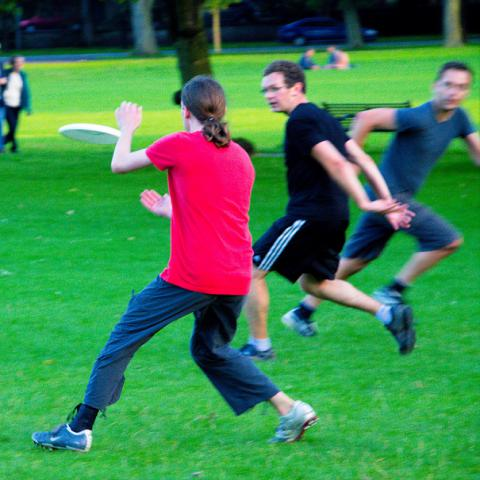car: (277, 18, 378, 46), (155, 17, 171, 43)
